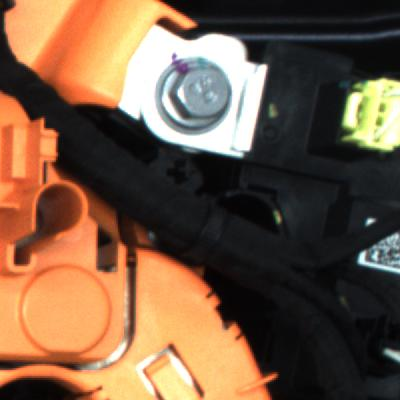nut_b: (162, 56, 237, 146)
